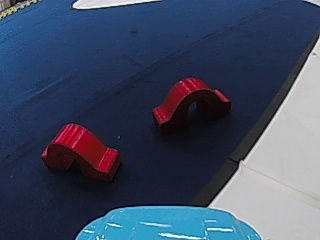bridge: (39, 120, 124, 183), (149, 73, 233, 131)
